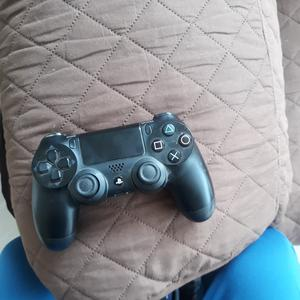controller: (31, 112, 215, 251)
